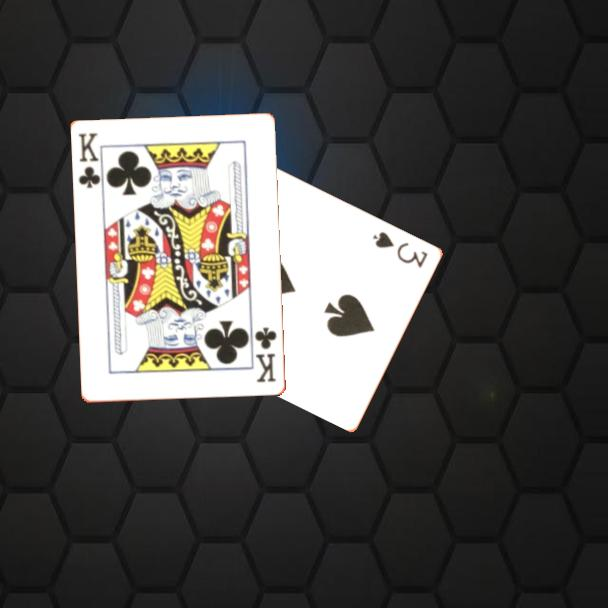c13: (75, 130, 104, 191), (252, 324, 280, 386)
s03: (370, 228, 431, 271)
